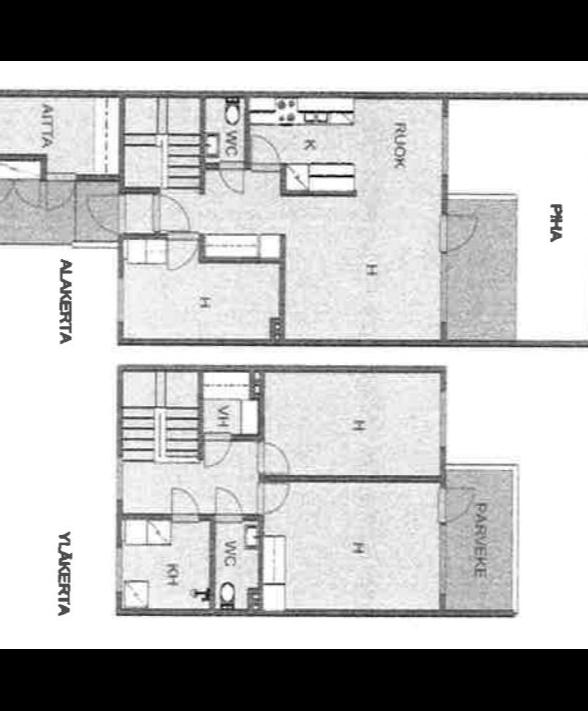bathroom: (211, 520, 256, 612), (206, 94, 246, 165)
door: (83, 192, 127, 234), (151, 192, 192, 233), (436, 486, 478, 525), (440, 211, 483, 249), (247, 132, 282, 178), (254, 440, 294, 480), (168, 486, 202, 526), (164, 232, 198, 272), (211, 487, 244, 528), (254, 482, 292, 517), (202, 432, 232, 473), (215, 158, 245, 198), (13, 172, 42, 212), (48, 172, 75, 211), (0, 174, 16, 208)
perimeter: (0, 90, 450, 347), (112, 364, 447, 614)
stairs: (158, 407, 196, 466), (162, 132, 198, 193), (116, 407, 154, 464), (126, 131, 156, 150)
window: (435, 524, 450, 600), (436, 112, 451, 186), (436, 250, 450, 328), (435, 384, 449, 454), (112, 452, 126, 504), (114, 272, 127, 328), (112, 542, 122, 594)
